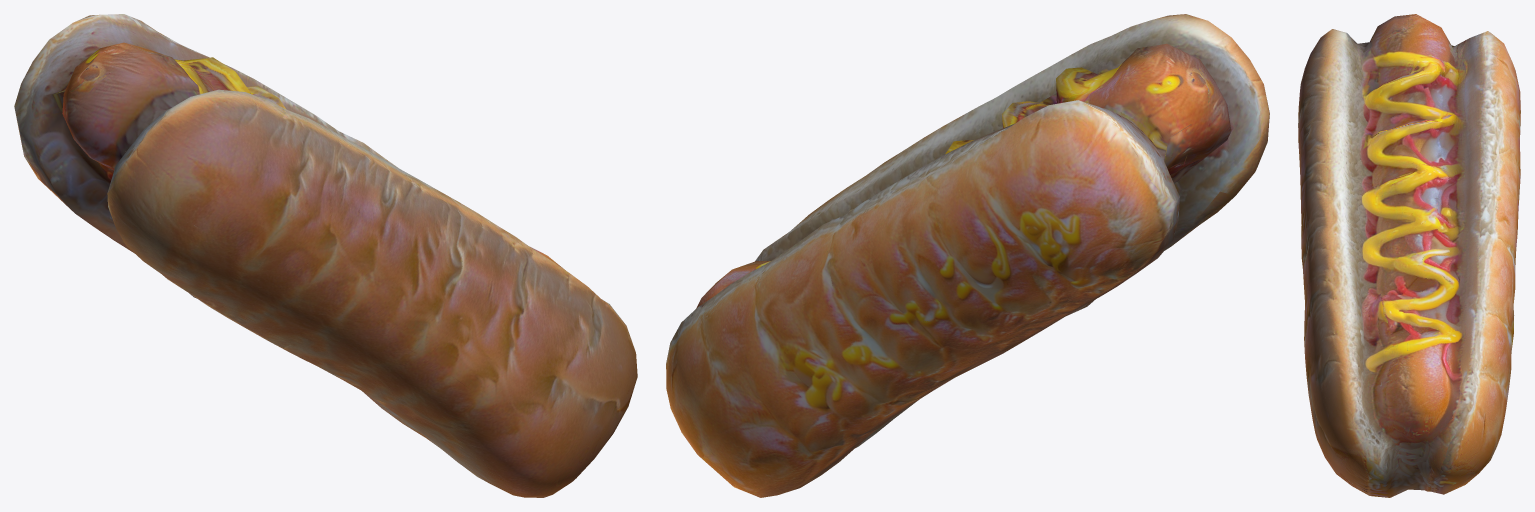
The model's file is HotDog.obj.
3 renders of one model, left to right at view 1: azimuth 30°, elevation 25°; view 2: azimuth 150°, elevation 25°; view 3: azimuth 270°, elevation 25°, orthographic. The views are drawn at different scales.
Visible parts, largest first — view 1: HotDog; view 2: HotDog; view 3: HotDog.
Boxes of the visible parts, x1,y1,x2,y2 form: HotDog: [14, 14, 637, 497]; HotDog: [666, 14, 1269, 497]; HotDog: [1298, 14, 1520, 497].
Size of the model in its own units: 4.79 by 4.44 by 2.56.
